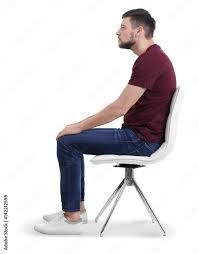bad-pose: (0, 0, 199, 254)
